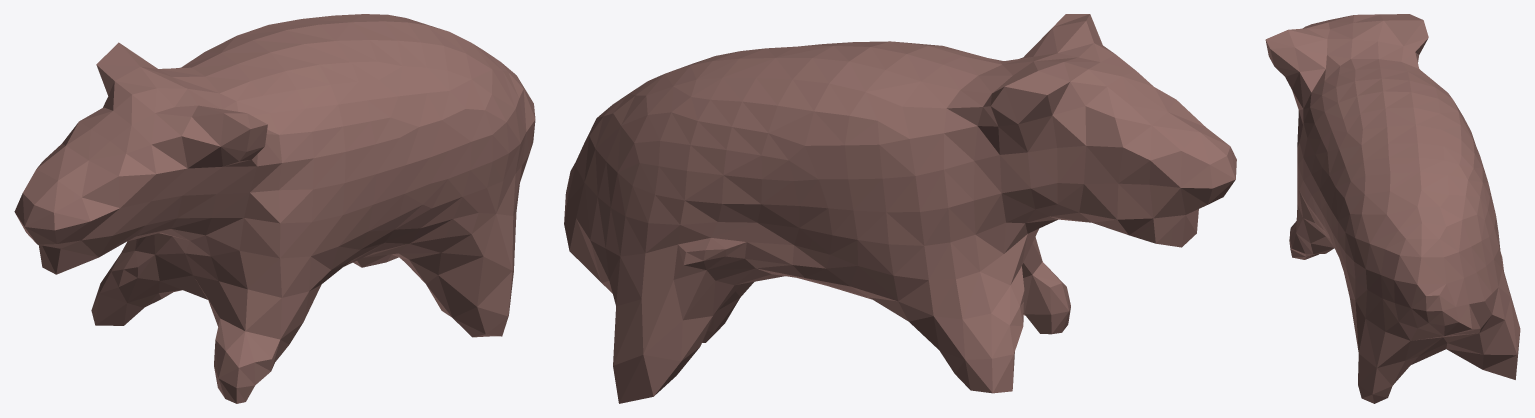
Rendered from Dog.glb.
3 views of the same model, side by side, from view 1: azimuth 30°, elevation 25°; view 2: azimuth 150°, elevation 25°; view 3: azimuth 270°, elevation 25° (orthographic). The views are drawn at different scales.
Visible parts, largest first — view 1: Sphere; view 2: Sphere; view 3: Sphere.
Part boxes in pixels (left/top/right/bottom): Sphere: left=14, top=14, right=535, bottom=403; Sphere: left=564, top=14, right=1236, bottom=403; Sphere: left=1265, top=14, right=1520, bottom=403.
Size of the model in its own units: 1.91 by 1.13 by 1.
